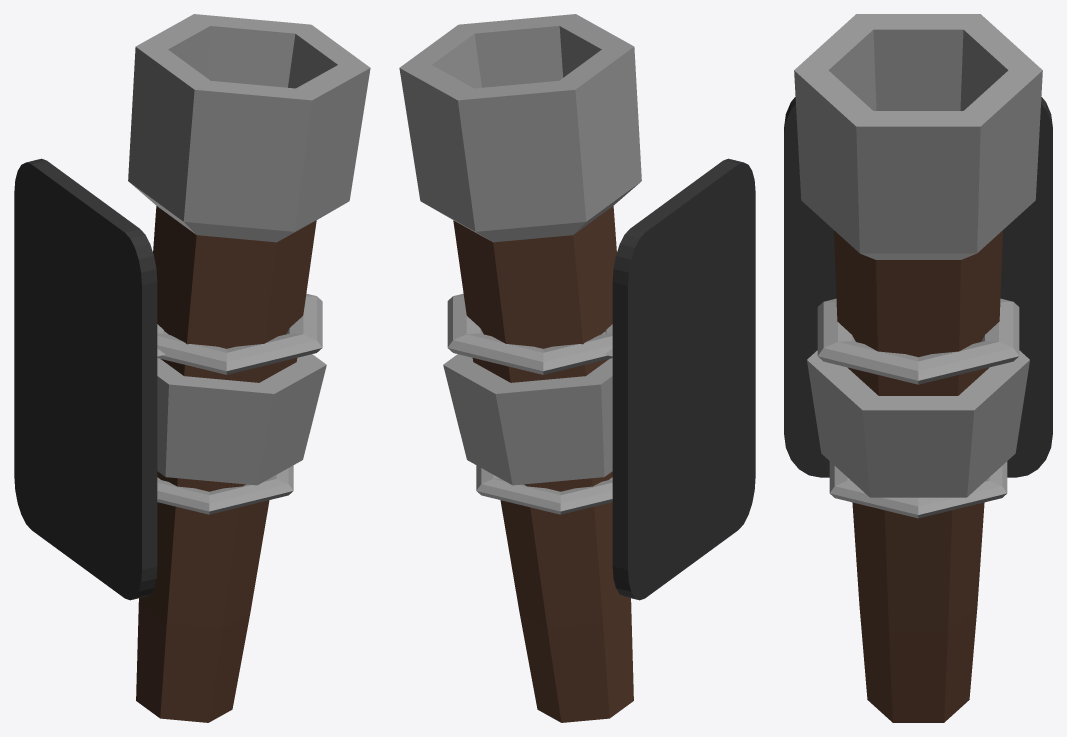
File: antorcha.fbx
3 renders of one model, left to right at view 1: azimuth 30°, elevation 25°; view 2: azimuth 150°, elevation 25°; view 3: azimuth 270°, elevation 25°, orthographic. The views are drawn at different scales.
Visible parts, largest first — view 1: Torus.001; view 2: Torus.001; view 3: Torus.001.
Part boxes in pixels (<box>): Torus.001: <box>14,14,370,722</box>; Torus.001: <box>399,14,755,722</box>; Torus.001: <box>784,14,1052,722</box>.
Size of the model in its own units: 355 by 834 by 299.
